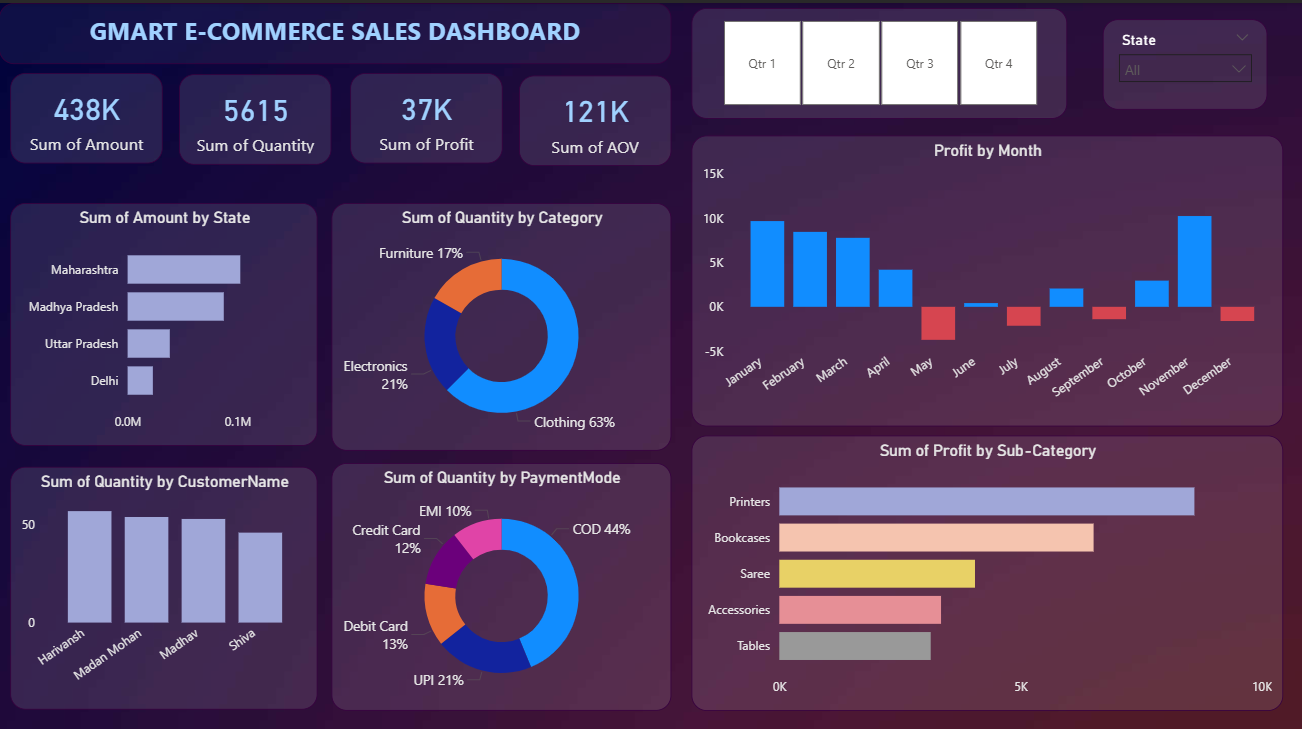

The dashboard page shown, as its layout file describes it:
{"tool":"powerbi","page":{"name":"Page 1","canvas":[1280,720],"ordinal":0},"visuals":[{"type":"textbox","box":[0,0,660,60.4],"z":0},{"type":"columnChart","title":"Profit by Month","fields":{"Y":["Sum(Details.Profit)"],"Category":["Orders.Order Date.Variation.Date Hierarchy.Month"]},"box":[679.2,130.4,580.4,285.4],"z":1000},{"type":"barChart","fields":{"Category":["Details.Sub-Category"],"Y":["Sum(Details.Profit)"]},"box":[679.2,424,580.4,270.3],"z":2000},{"type":"donutChart","fields":{"Category":["Details.Category"],"Y":["Sum(Details.Quantity)"]},"box":[326.6,196.2,333.4,242.9],"z":3000},{"type":"donutChart","fields":{"Y":["Sum(Details.Quantity)"],"Category":["Details.PaymentMode"]},"box":[326.6,451.5,333.4,242.9],"z":4000},{"type":"card","fields":{"Values":["Sum(Details.Amount)"]},"box":[11,68.6,149.6,89.2],"z":5000},{"type":"card","fields":{"Values":["Sum(Details.Profit)"]},"box":[344.4,68.6,149.6,89.2],"z":6000},{"type":"card","fields":{"Values":["Sum(Details.Quantity)"]},"box":[177,70,149.6,89.2],"z":7000},{"type":"card","fields":{"Values":["Sum(Details.AOV)"]},"box":[510.5,71.4,149.6,89.2],"z":8000},{"type":"barChart","fields":{"Category":["Orders.State"],"Y":["Sum(Details.Amount)"]},"box":[11,196.2,301.9,238.8],"z":8001},{"type":"columnChart","fields":{"Category":["Orders.CustomerName"],"Y":["Sum(Details.Quantity)"]},"box":[11,455.6,301.9,238.8],"z":8002},{"type":"slicer","fields":{"Values":["Orders.Order Date.Variation.Date Hierarchy.Quarter"]},"box":[679.2,5.5,369.1,108.4],"z":8003},{"type":"slicer","fields":{"Values":["Orders.State"]},"box":[1084.1,16.5,161.9,89.2],"z":8004}]}

Visuals, with their boxes in screenshot pixels (x1, y1, x2, y2), scaled from the page's 1280x720 canvas onto the 1302x729 screenshot:
textbox: {"left": 0, "top": 0, "right": 671, "bottom": 61}
"Profit by Month" columnChart: {"left": 691, "top": 132, "right": 1281, "bottom": 421}
barChart - Details.Sub-Category x Sum(Details.Profit): {"left": 691, "top": 429, "right": 1281, "bottom": 703}
donutChart - Details.Category x Sum(Details.Quantity): {"left": 332, "top": 199, "right": 671, "bottom": 445}
donutChart - Sum(Details.Quantity) x Details.PaymentMode: {"left": 332, "top": 457, "right": 671, "bottom": 703}
card - Sum(Details.Amount): {"left": 11, "top": 69, "right": 163, "bottom": 160}
card - Sum(Details.Profit): {"left": 350, "top": 69, "right": 502, "bottom": 160}
card - Sum(Details.Quantity): {"left": 180, "top": 71, "right": 332, "bottom": 161}
card - Sum(Details.AOV): {"left": 519, "top": 72, "right": 671, "bottom": 163}
barChart - Orders.State x Sum(Details.Amount): {"left": 11, "top": 199, "right": 318, "bottom": 440}
columnChart - Orders.CustomerName x Sum(Details.Quantity): {"left": 11, "top": 461, "right": 318, "bottom": 703}
slicer - Orders.Order Date.Variation.Date Hierarchy.Quarter: {"left": 691, "top": 6, "right": 1066, "bottom": 115}
slicer - Orders.State: {"left": 1103, "top": 17, "right": 1267, "bottom": 107}
